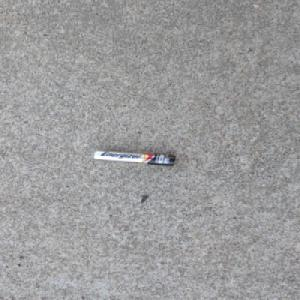Battery: (90, 150, 177, 167)
